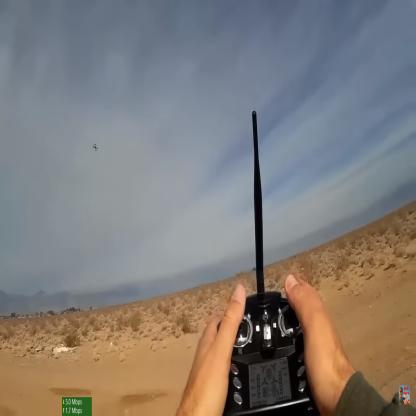drone: (91, 141, 100, 155)
